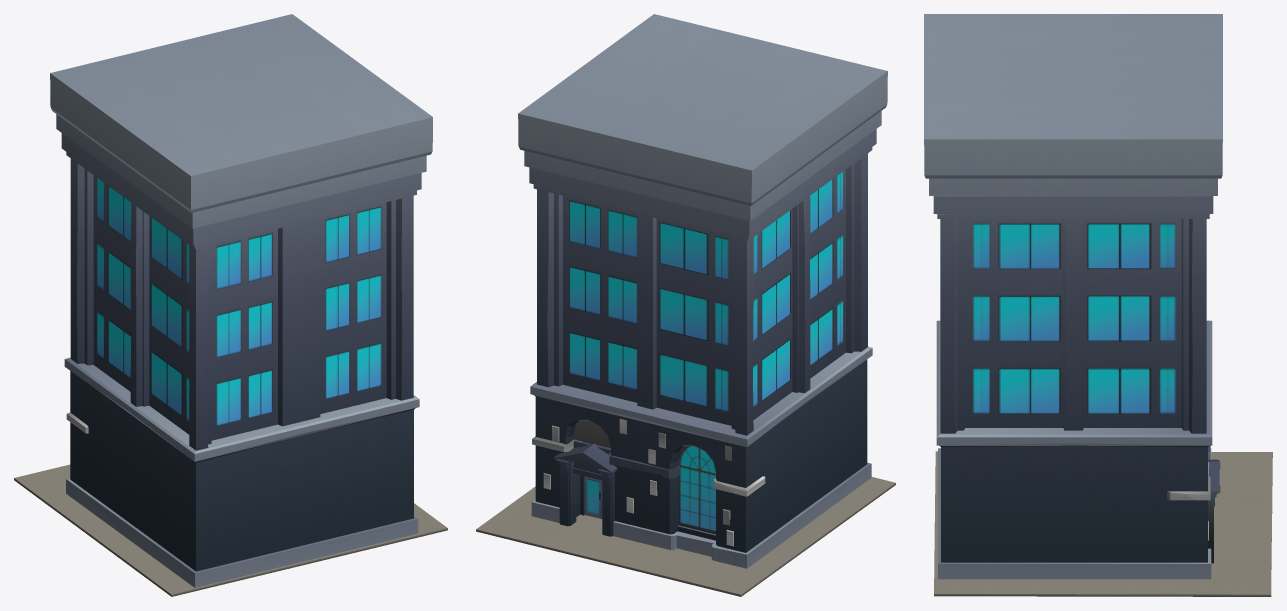
The model's file is BLD1210001.fbx.
The picture shows the model from 3 angles, left to right: view 1: azimuth 30°, elevation 25°; view 2: azimuth 150°, elevation 25°; view 3: azimuth 270°, elevation 25°; orthographic projection. The views are drawn at different scales.
Parts seen in each view (by area): view 1: smBLD1210001; view 2: smBLD1210001; view 3: smBLD1210001.
Part boxes in pixels (x1=…): smBLD1210001: x1=14, y1=14, x2=447, y2=596; smBLD1210001: x1=476, y1=14, x2=895, y2=596; smBLD1210001: x1=924, y1=14, x2=1272, y2=596.
Size of the model in its own units: 1594 by 2319 by 1640.
1 material, 1 textured.
